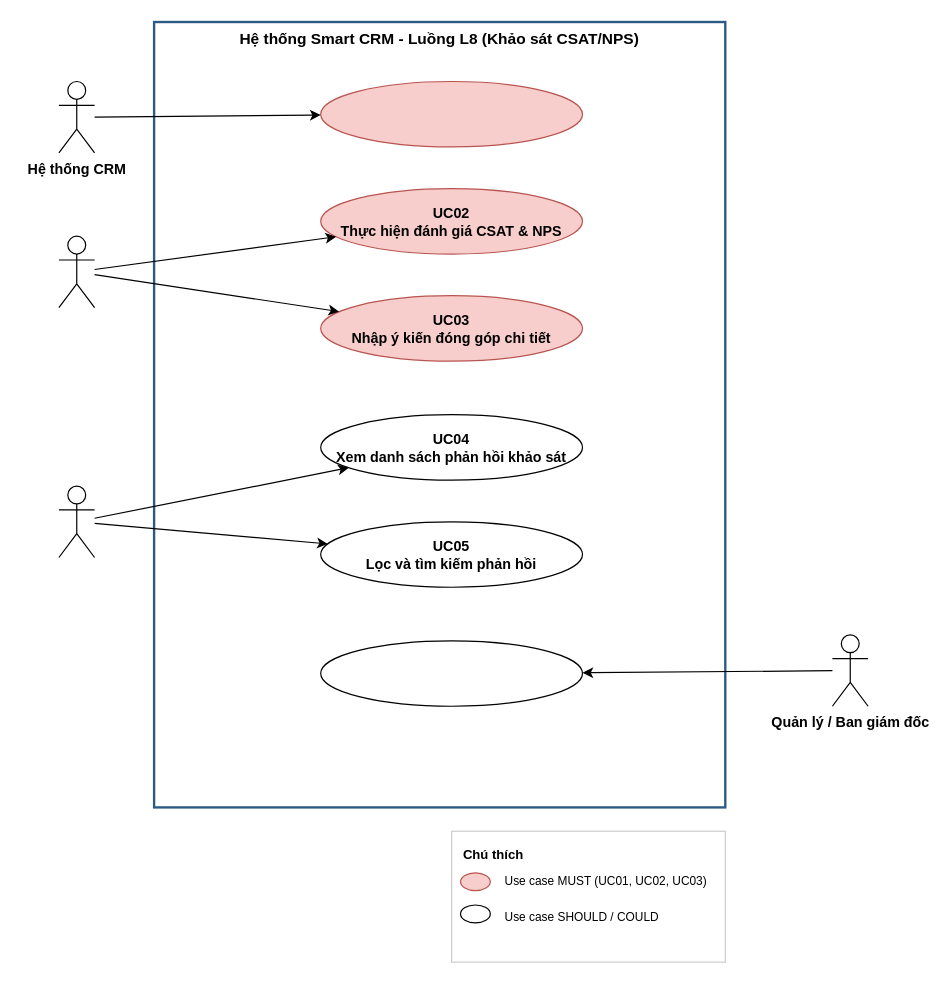
Some shapes in this 950 by 983 pixel diagram are drawn without their labels. Here are the shapes that lost their labels. From the top down, the centre of each, then its label:
the point at 451,113: UC01 Tự động kích hoạt & gửi form
the point at 76,271: Khách hàng
the point at 76,521: Nhân viên CSKH
the point at 451,673: UC06 Xem Dashboard tổng hợp chỉ số
